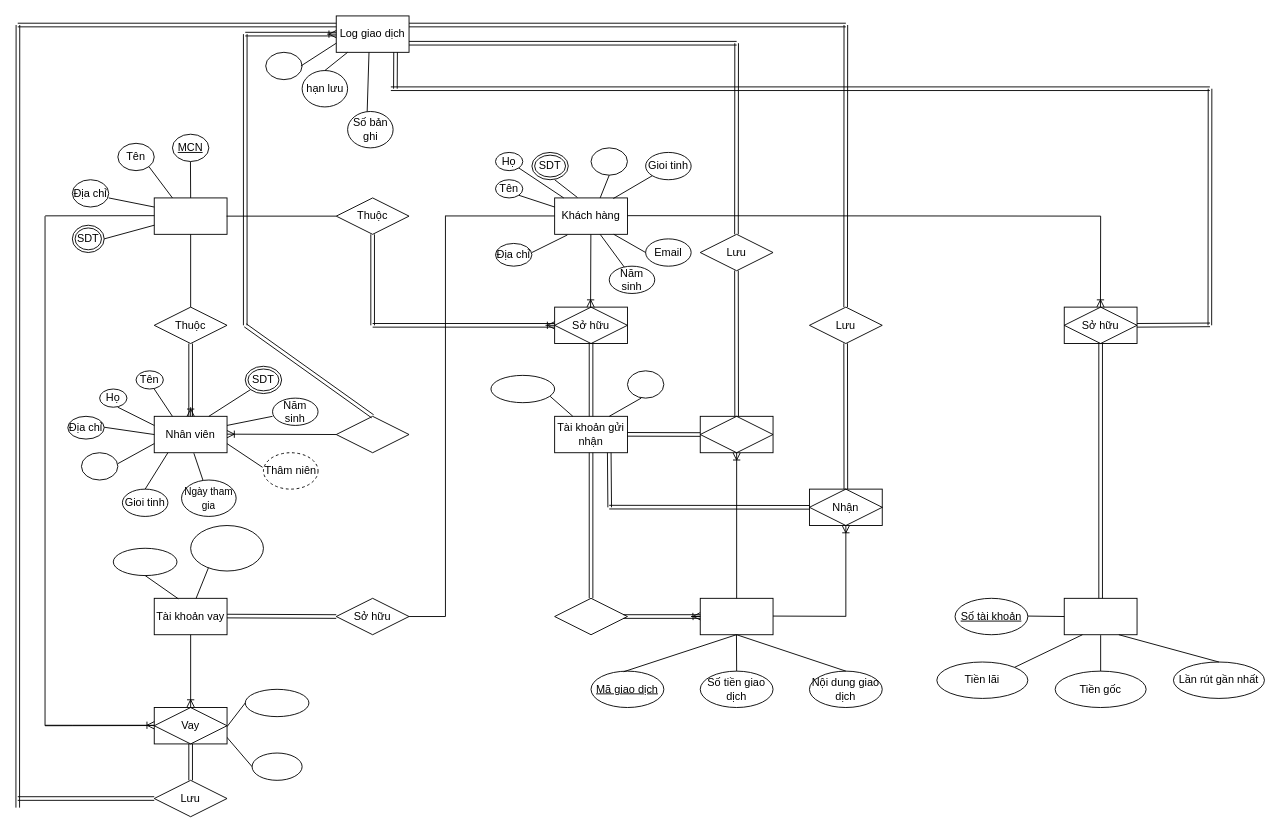
Image size: 1280x833. Some labels were removed from this diagram. Each missing label, with the centre of its shape:
Chi nhánh: pixel 190 215
Giao dịch: pixel 736 616
Gửi: pixel 736 434
MKH: pixel 608 161
MNV: pixel 99 466
Mã log: pixel 283 65
Mã tài khoảng vay: pixel 226 548
Ngày mở tài khoản: pixel 522 388
Ngày vay: pixel 276 702
Quản lý: pixel 372 434
STK: pixel 645 384
Số tiền vay: pixel 276 766
Thực hiện: pixel 590 616
Trạng thái: pixel 144 561
Tài khoản tiết kiệm: pixel 1100 616
